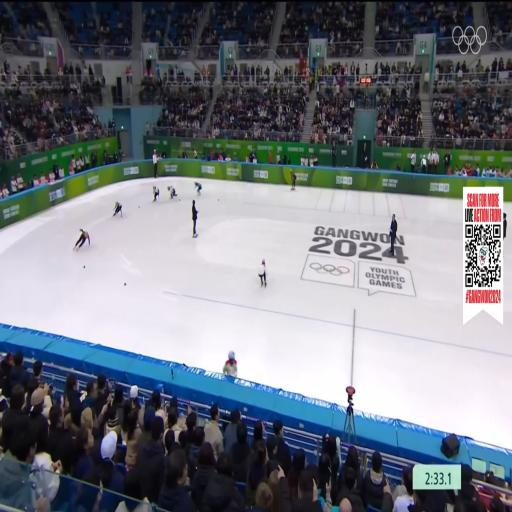Skater: (73, 228, 90, 253), (113, 202, 123, 220), (168, 185, 178, 200), (152, 186, 160, 202), (194, 181, 202, 196)
